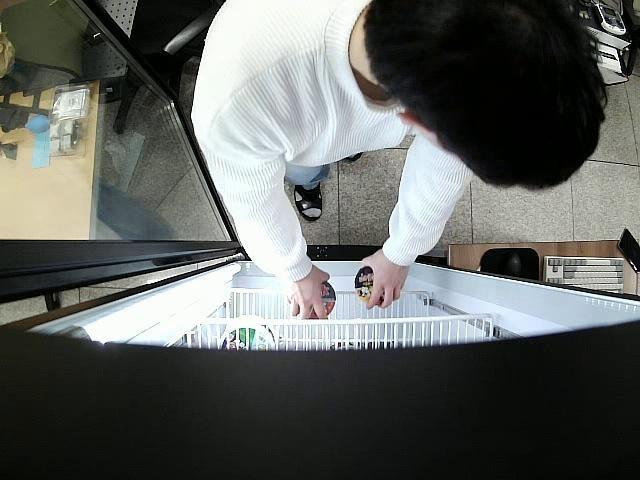08_buldak_S: (298, 281, 338, 317), (356, 266, 386, 302)
